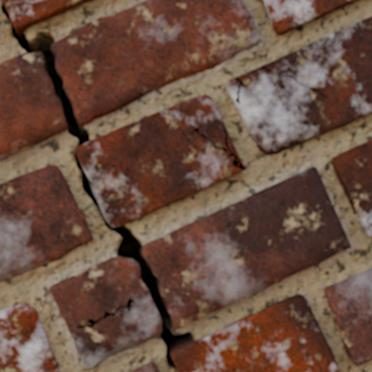brick: (76, 95, 241, 225), (225, 17, 371, 154), (172, 295, 339, 371), (0, 165, 92, 280), (325, 268, 371, 365), (0, 304, 58, 371), (331, 140, 371, 236), (262, 0, 355, 34), (3, 0, 90, 30), (133, 362, 157, 371), (228, 135, 237, 154)
broken_brick: (144, 166, 351, 330), (53, 0, 260, 125), (48, 256, 160, 368), (0, 52, 66, 160)
crack: (0, 2, 195, 369), (191, 125, 245, 170), (261, 65, 328, 99), (234, 77, 243, 104)
